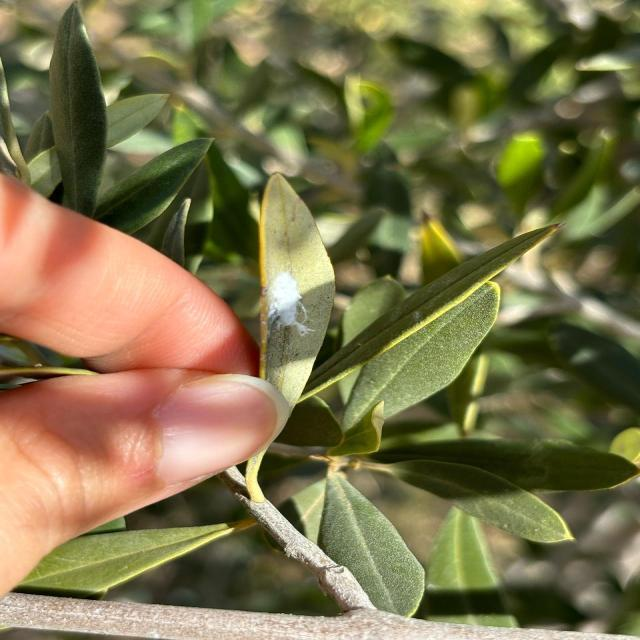Psyllid: (260, 242, 334, 352)
